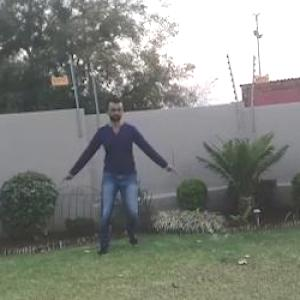land: (59, 102, 175, 256)
